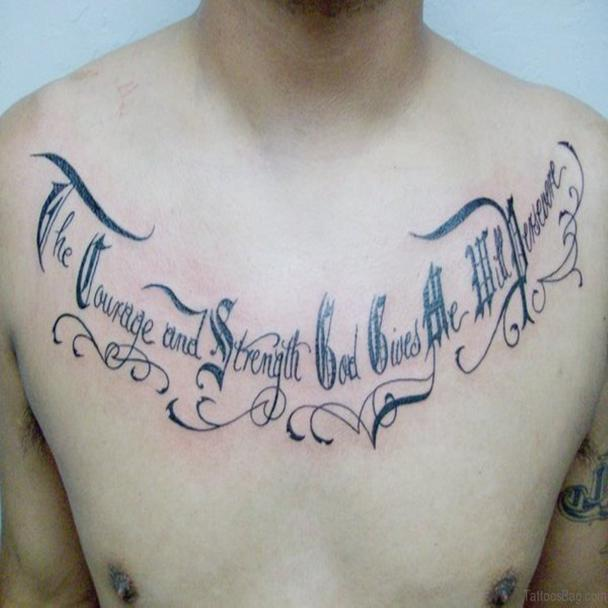tattoos: (28, 139, 584, 452), (556, 461, 608, 557)
